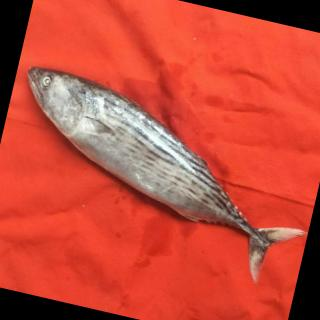Ikan: (1, 51, 320, 298)
